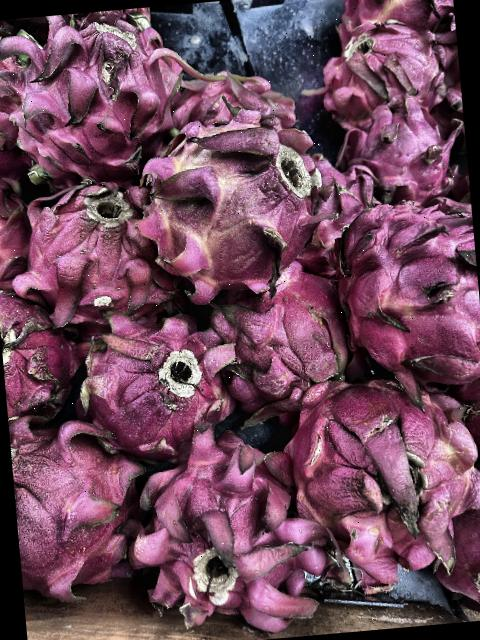buah-naga-belum-matang: (138, 106, 329, 296), (334, 0, 455, 38)
buah-naga-matang: (277, 364, 480, 587), (128, 418, 320, 638), (327, 176, 480, 398), (8, 396, 156, 610), (2, 6, 176, 185), (14, 162, 186, 332), (77, 300, 238, 454), (210, 269, 354, 410), (330, 89, 470, 214), (166, 42, 302, 145), (330, 13, 455, 122), (0, 277, 90, 415), (0, 18, 48, 178), (450, 467, 480, 621)
